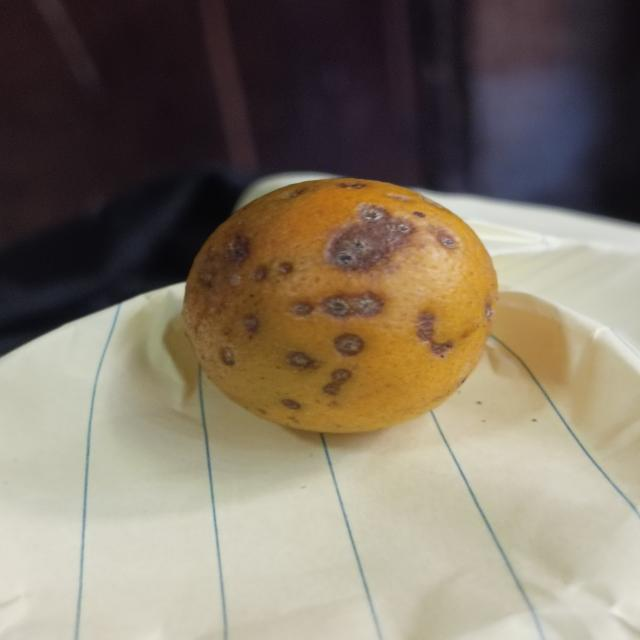black spot: (174, 171, 499, 441)
